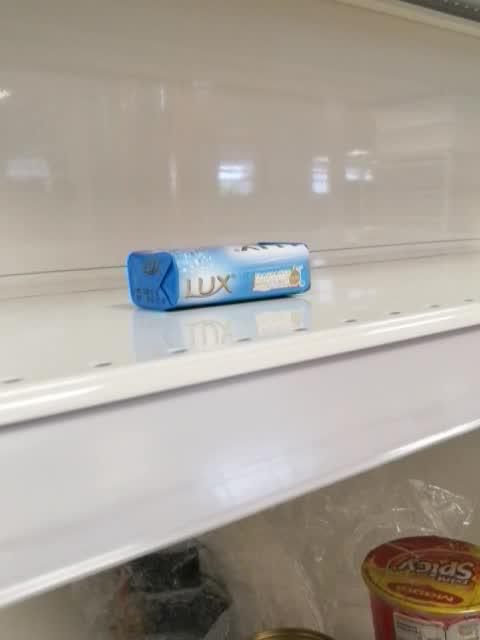soap: (127, 240, 314, 312)
